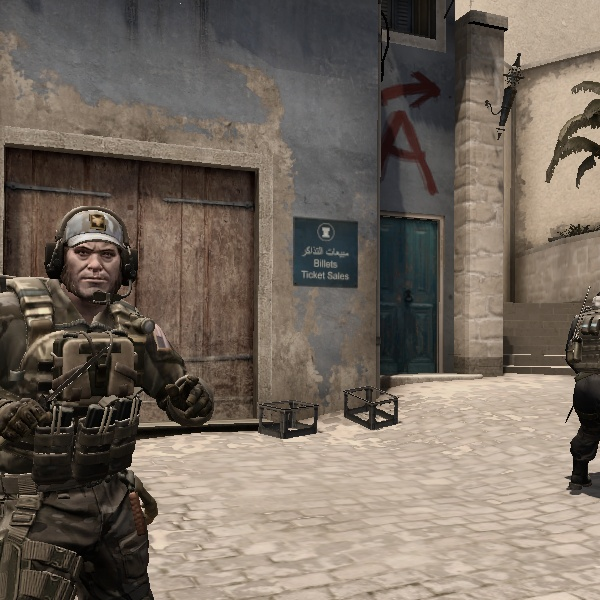ct_body: (5, 202, 217, 598)
ct_head: (33, 205, 154, 326)
